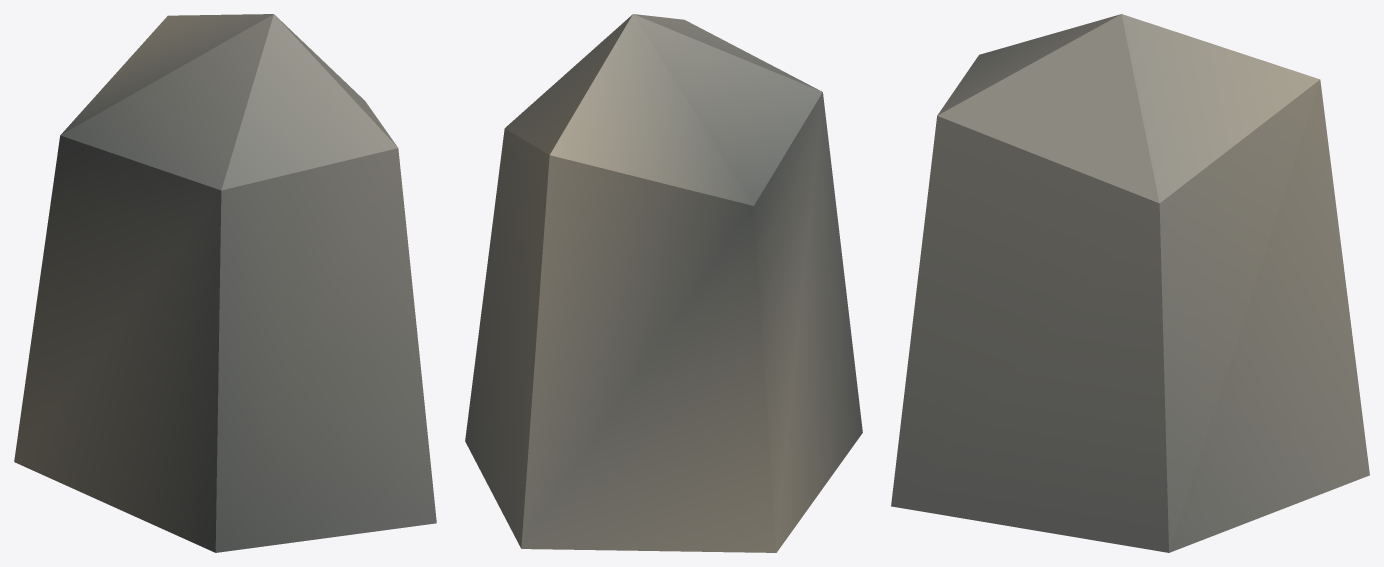
File: ENV_Rock_B_LOD1.glb
3 renders of one model, left to right at view 1: azimuth 30°, elevation 25°; view 2: azimuth 150°, elevation 25°; view 3: azimuth 270°, elevation 25°, orthographic. The views are drawn at different scales.
Parts seen in each view (by area): view 1: ENV_Rock_B_LOD1_rock; view 2: ENV_Rock_B_LOD1_rock; view 3: ENV_Rock_B_LOD1_rock.
Boxes of the visible parts, box(x1,y1,x2,y2) form: ENV_Rock_B_LOD1_rock: box(14, 14, 436, 552); ENV_Rock_B_LOD1_rock: box(465, 14, 862, 552); ENV_Rock_B_LOD1_rock: box(891, 14, 1369, 552).
Size of the model in its own units: 0.8167 by 1 by 0.9334.
